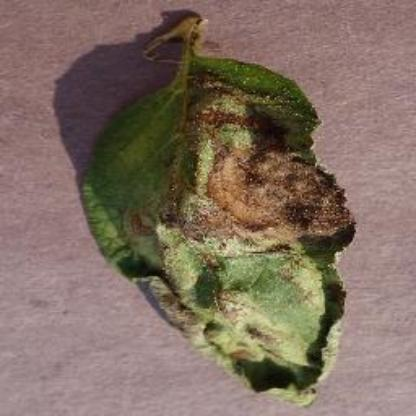Late-Blight: (58, 19, 372, 402)
